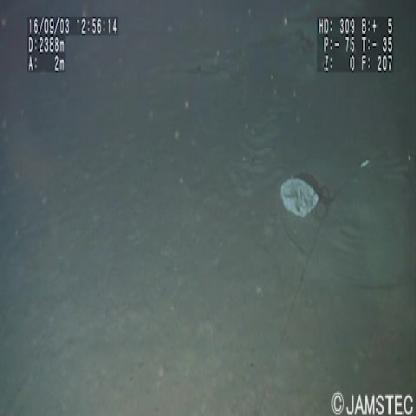Rác: (276, 170, 326, 220)
